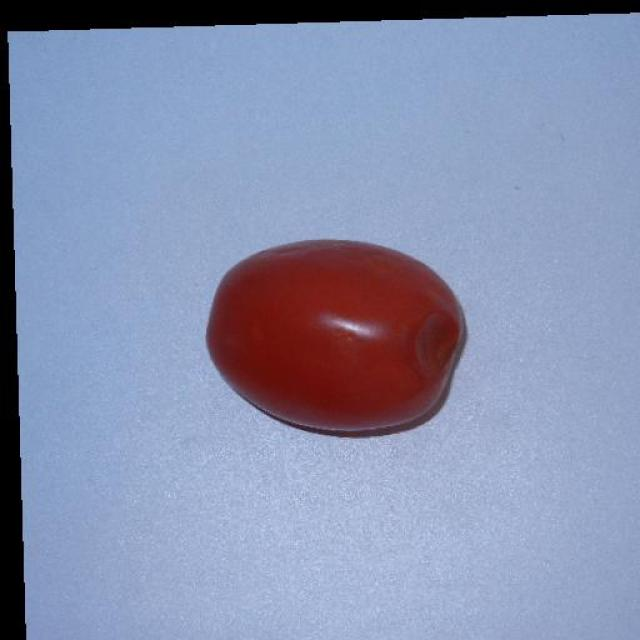Stale_tomato: (194, 231, 463, 429)
